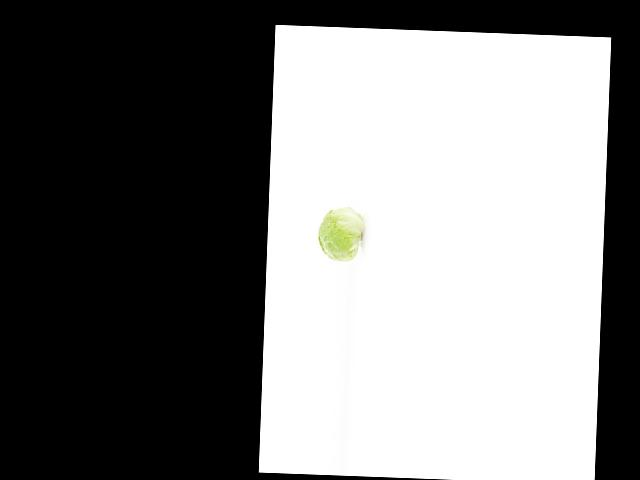lettuce: (315, 205, 361, 268)
